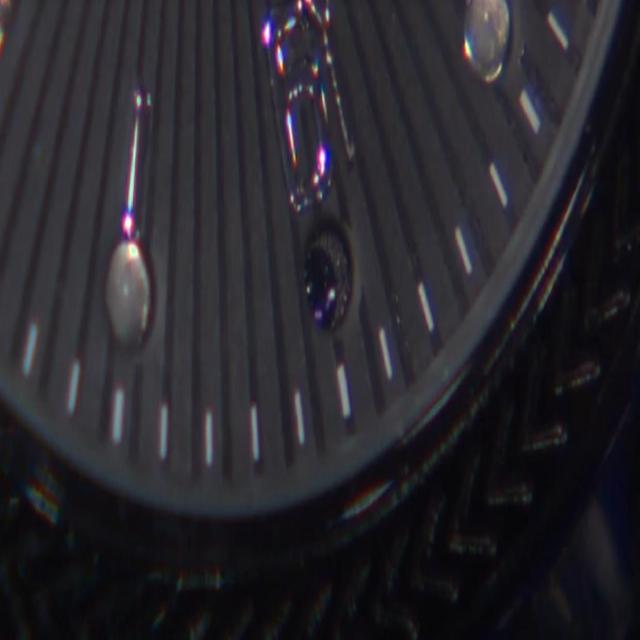hidden camera: (298, 241, 340, 330)
